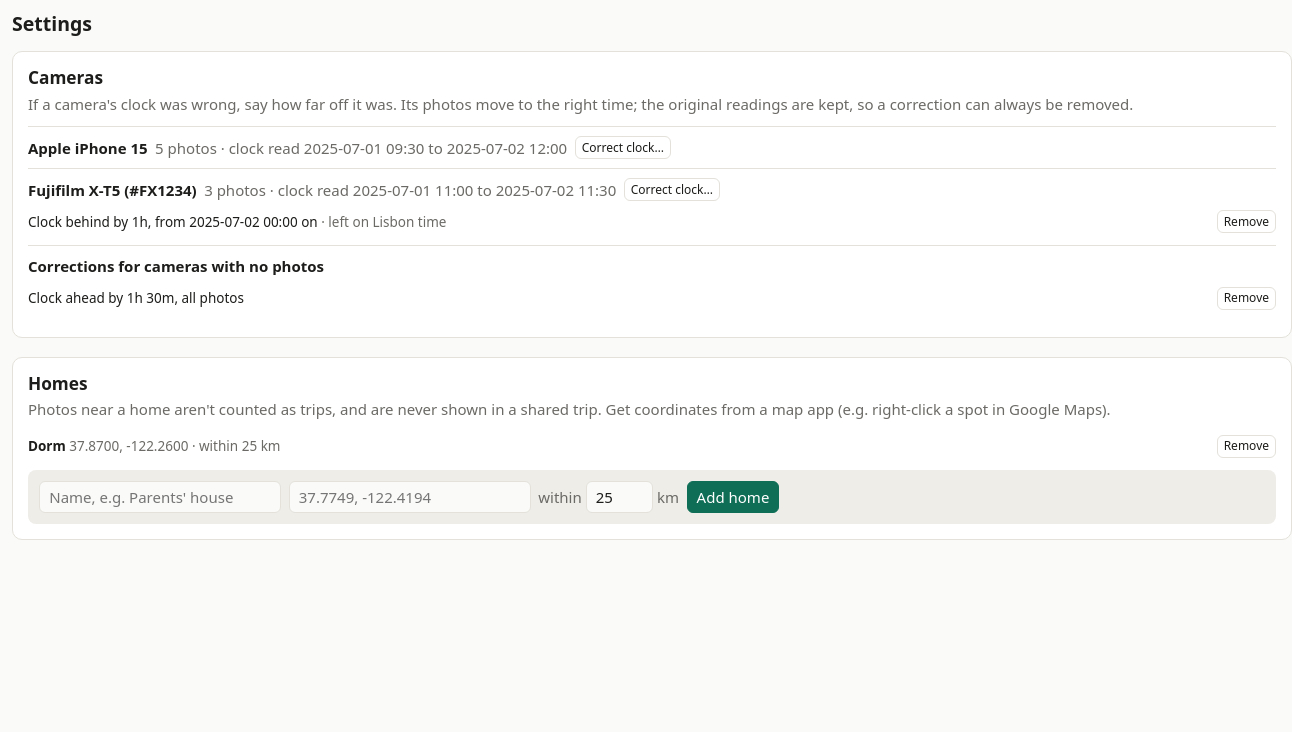
cameras › applies a date-limited correction and closes the form
Click the button "Correct clock…" in the row of "5 photos".
click(623, 148)  # box x1=575 y1=136 x2=671 y2=159
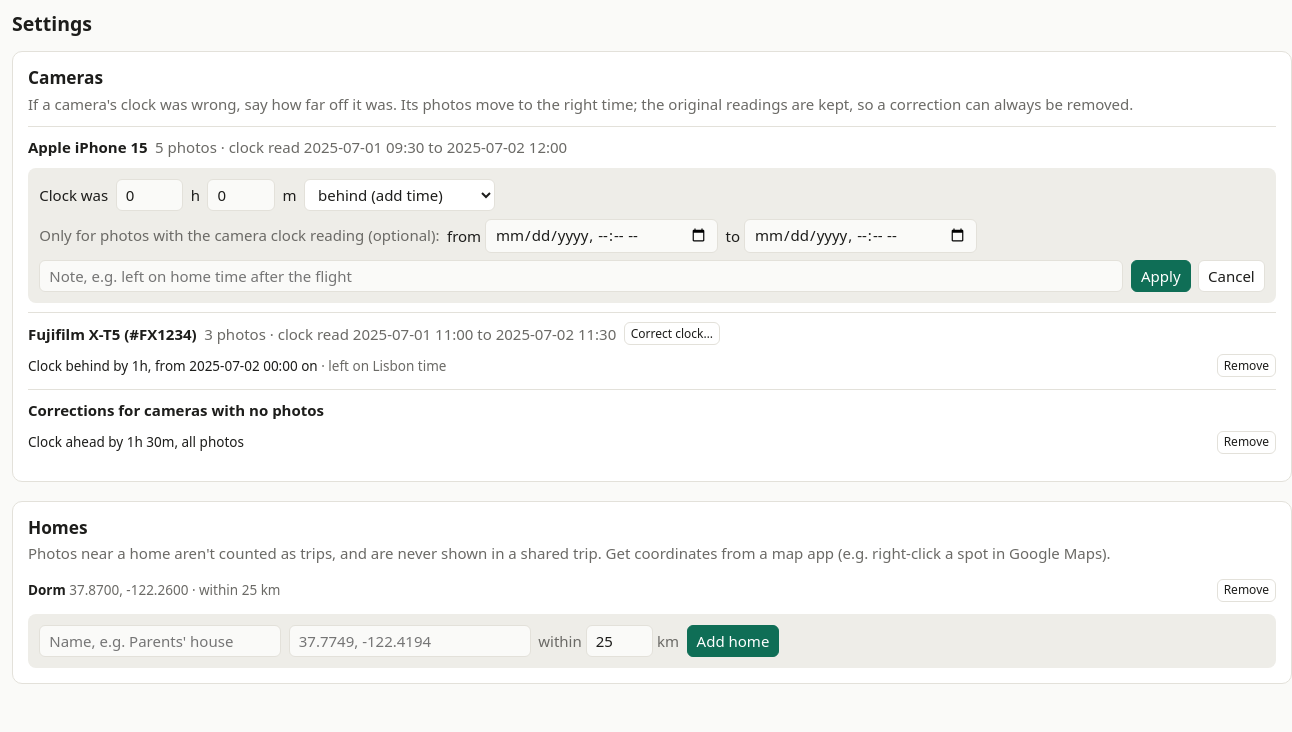
Replace the text in the number field named "Minutes" with "45" at x=241, y=195, box x1=208 y1=179 x2=275 y2=211
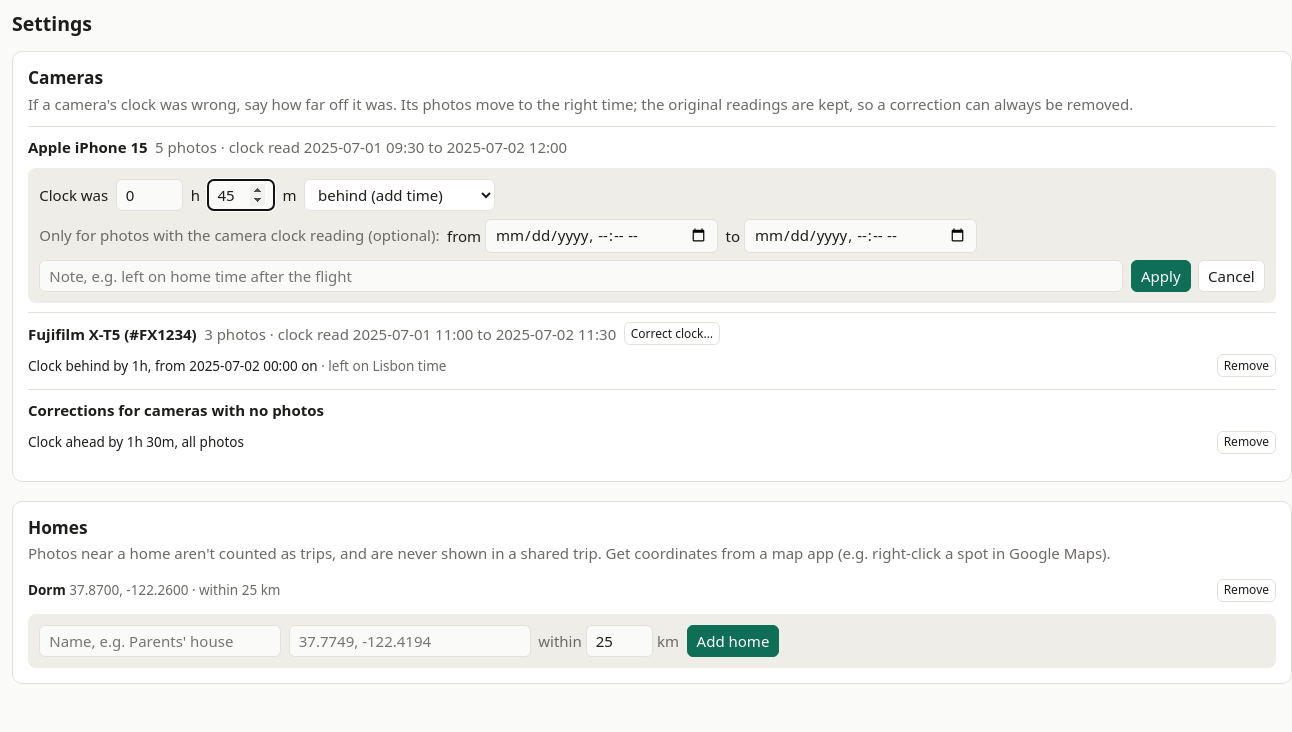
Select "ahead (subtract time)" in the dropdown named "Direction" at x=400, y=195, box x1=304 y1=179 x2=495 y2=211
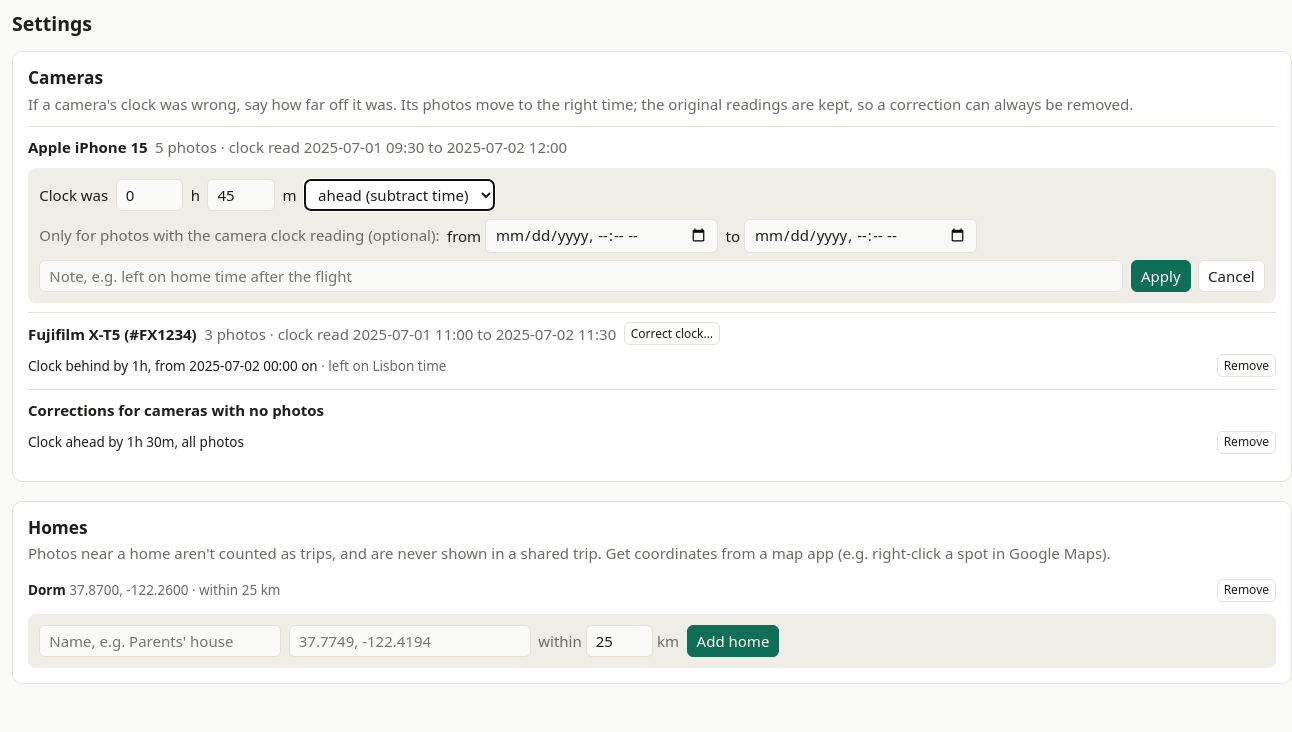
Type "2025-07-02T08:00" into the field labelled "from".
click(602, 236); type("2025-07-02T08:00")  # box x1=485 y1=219 x2=718 y2=253
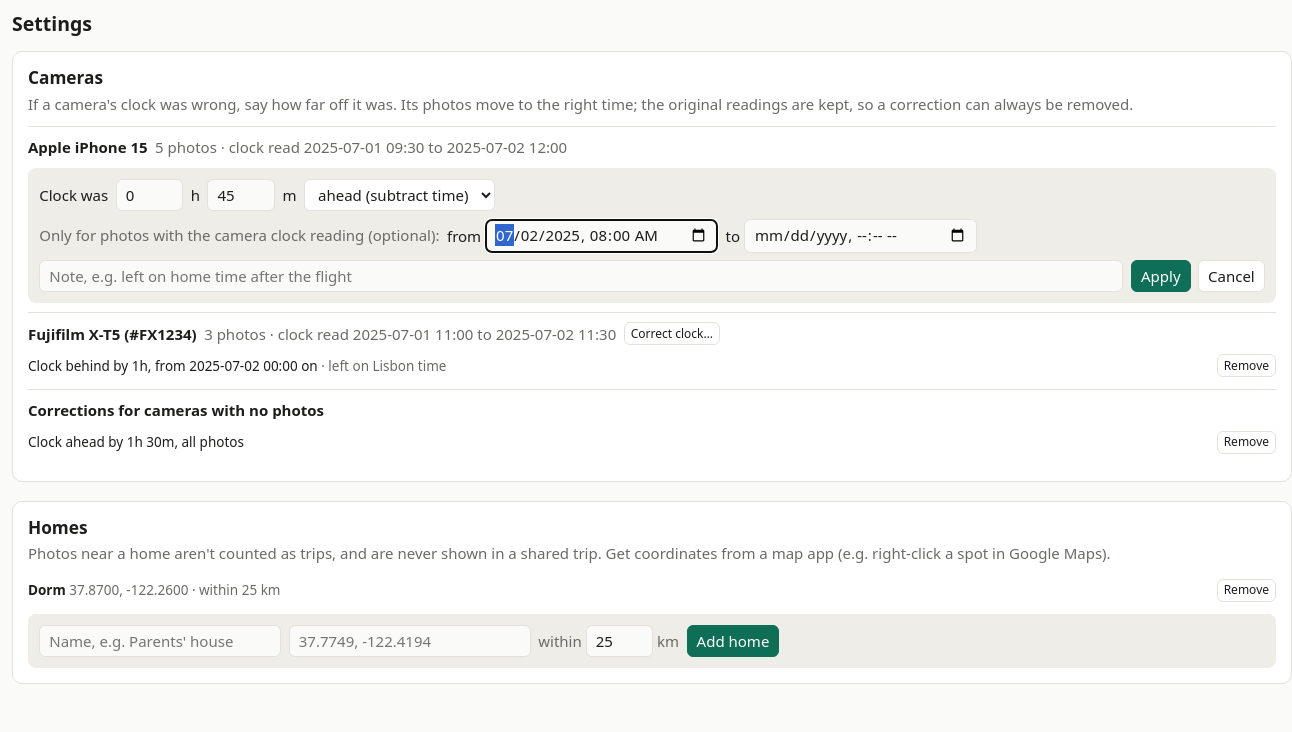
Type "daylight saving" into the field labelled "Note".
click(581, 276); type("daylight saving")  # box x1=39 y1=260 x2=1124 y2=292
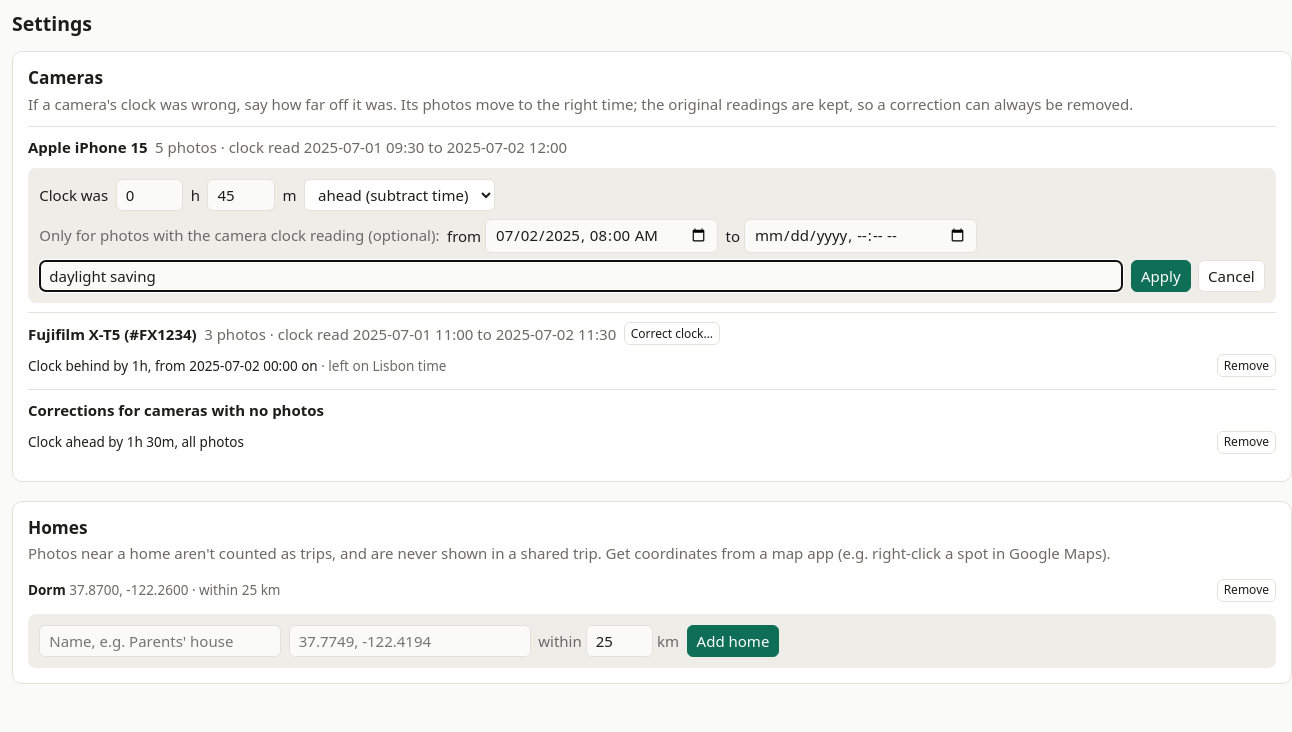
Click the button "Apply".
click(1161, 276)  # box x1=1131 y1=260 x2=1191 y2=292
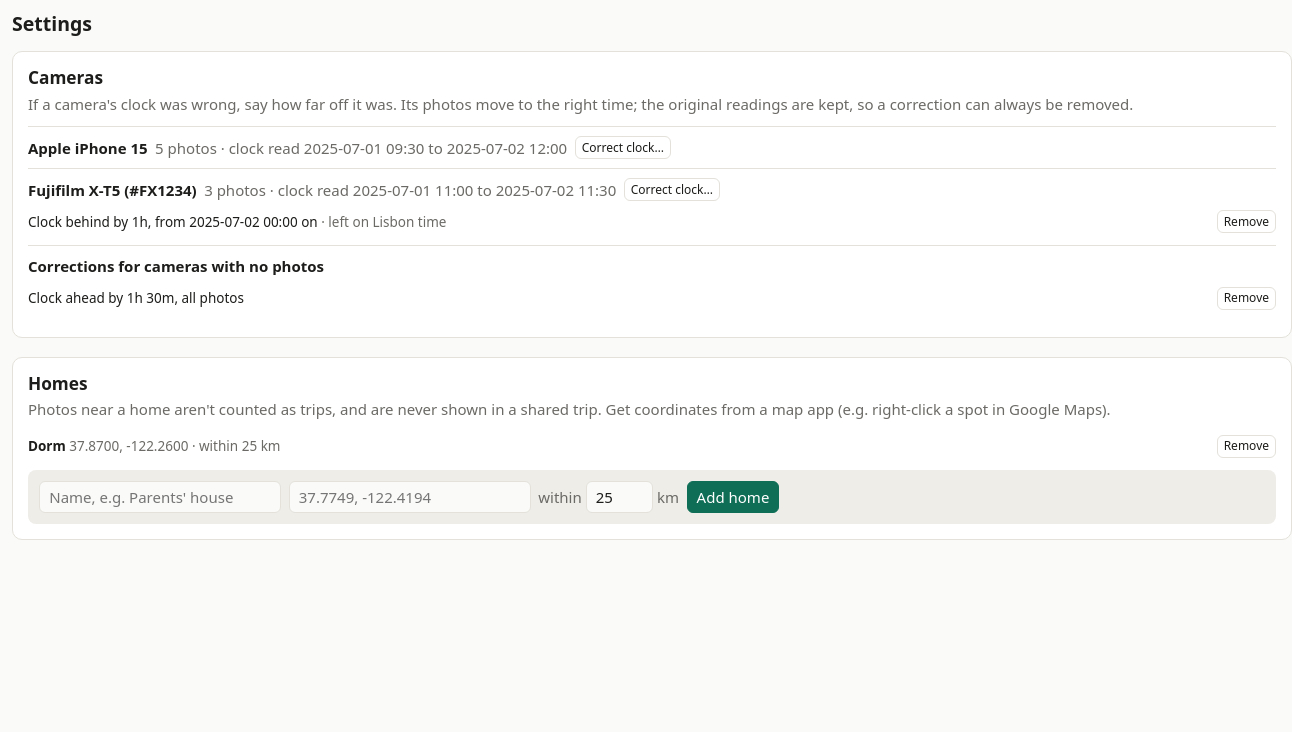
expect the button "Apply" is gone: met
